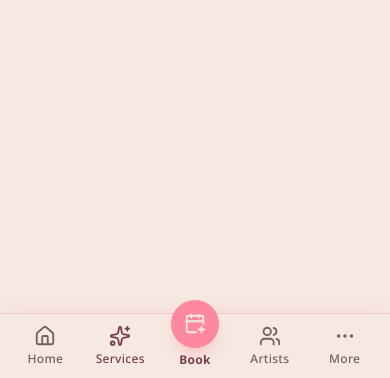
Test: phone tab bar › More shows the account actions when signed in
Click the button "More": click(345, 346) x1=307 y1=314 x2=382 y2=377
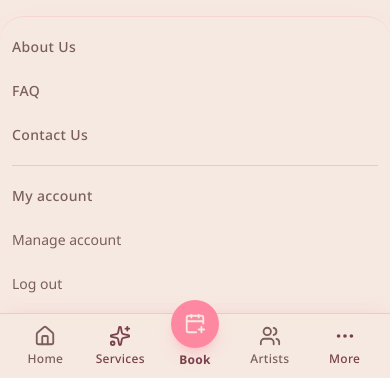
Click the button "Manage account": click(67, 240) x1=12 y1=218 x2=378 y2=262
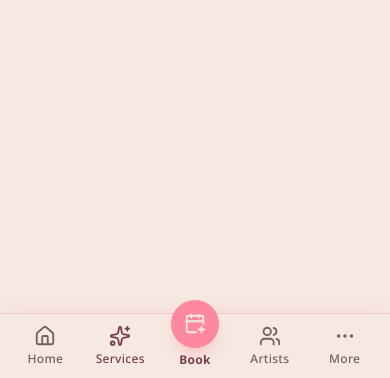
Now the link "About Us" is gone
